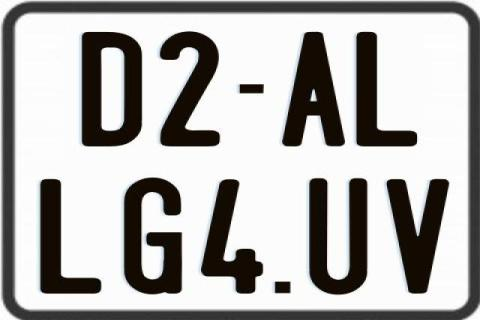0: (201, 177, 269, 293), (160, 31, 221, 149)
A: (280, 29, 344, 149)
D: (80, 30, 140, 146)
G: (124, 175, 188, 293)
L: (39, 179, 102, 295), (354, 30, 415, 148)
U: (307, 178, 366, 298)
V: (386, 177, 453, 291)
